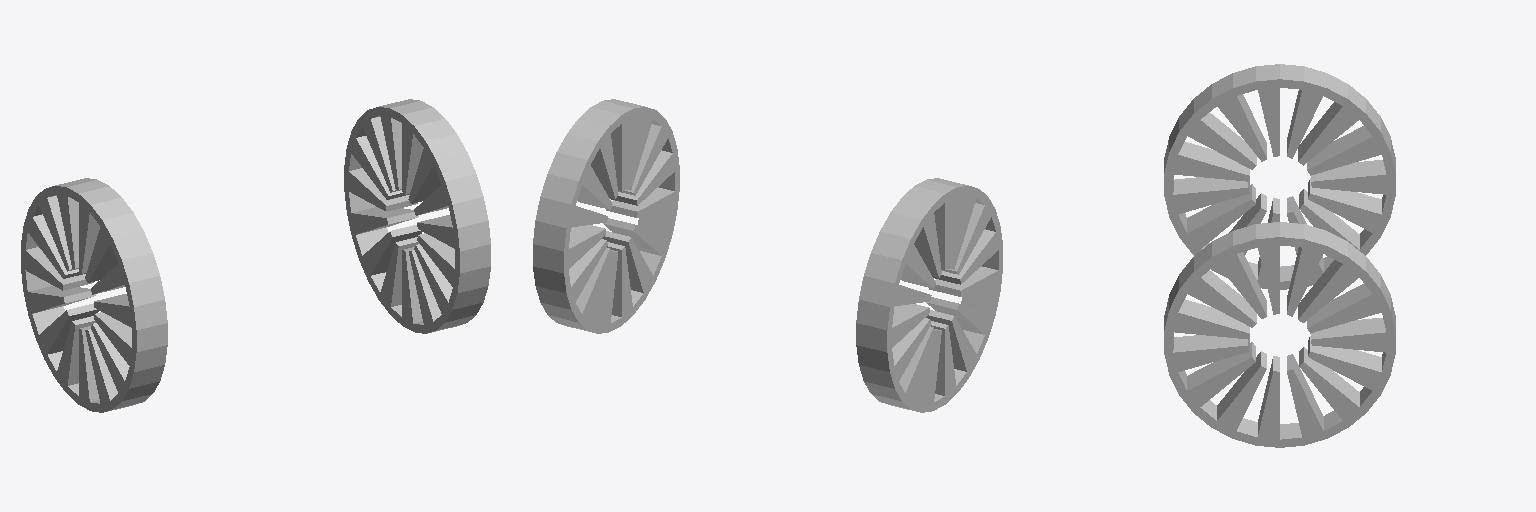
Rendered from small wheels.obj.
The picture shows the model from 3 angles: view 1: azimuth 30°, elevation 25°; view 2: azimuth 150°, elevation 25°; view 3: azimuth 270°, elevation 25°; orthographic projection.
Visible parts, largest first — view 1: polySurface22 inner_wheel2, inner_wheel2 polySurface23; view 2: inner_wheel2 polySurface23, polySurface22 inner_wheel2; view 3: polySurface22 inner_wheel2, inner_wheel2 polySurface23.
Boxes of the visible parts, x1,y1,x2,y2 form: polySurface22 inner_wheel2: [344, 99, 490, 333]; inner_wheel2 polySurface23: [21, 178, 167, 412]; inner_wheel2 polySurface23: [856, 178, 1002, 412]; polySurface22 inner_wheel2: [533, 99, 679, 333]; polySurface22 inner_wheel2: [1164, 222, 1395, 447]; inner_wheel2 polySurface23: [1164, 64, 1395, 289].
Size of the model in its own units: 5.57 by 3.17 by 3.15.